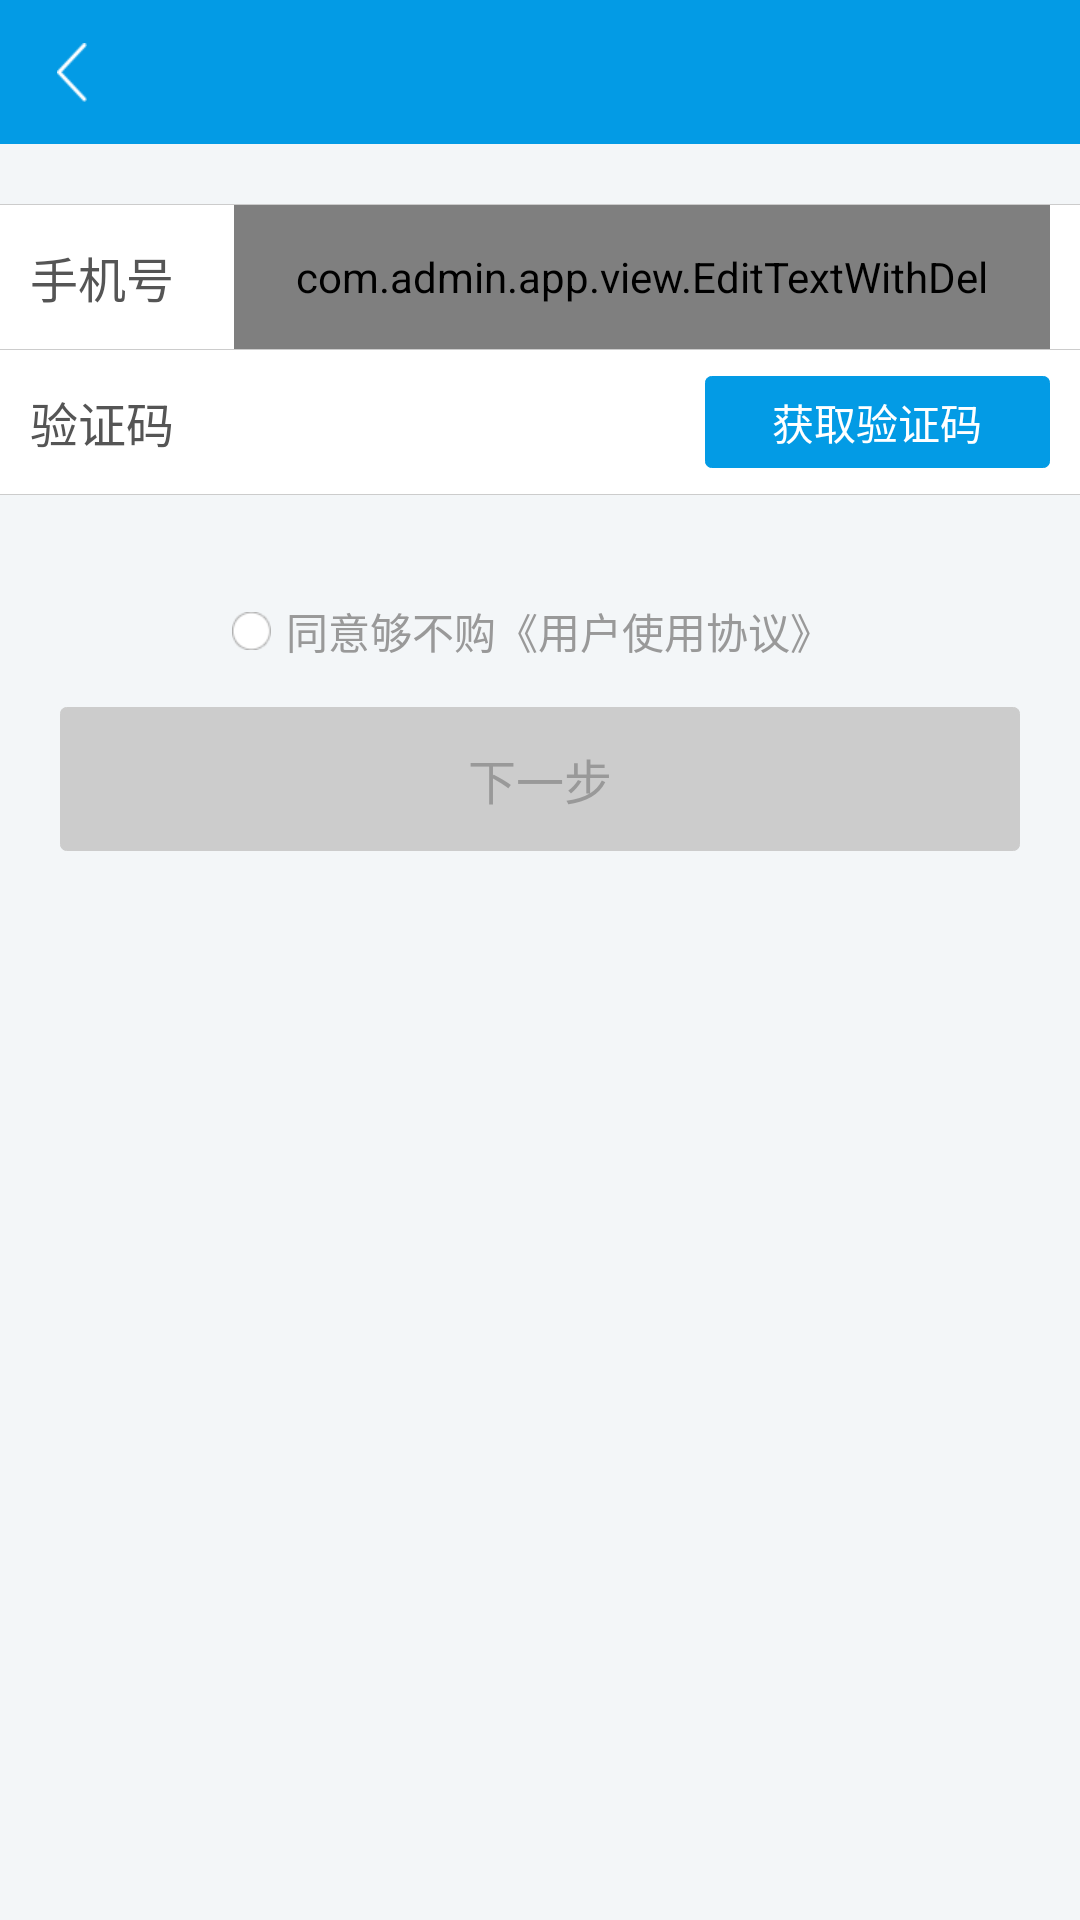

Named icons in this screenshot (1080×1920) and their bounding boxes, (x1, y1, x2, y2):
arrow left: (57, 43, 87, 102)
